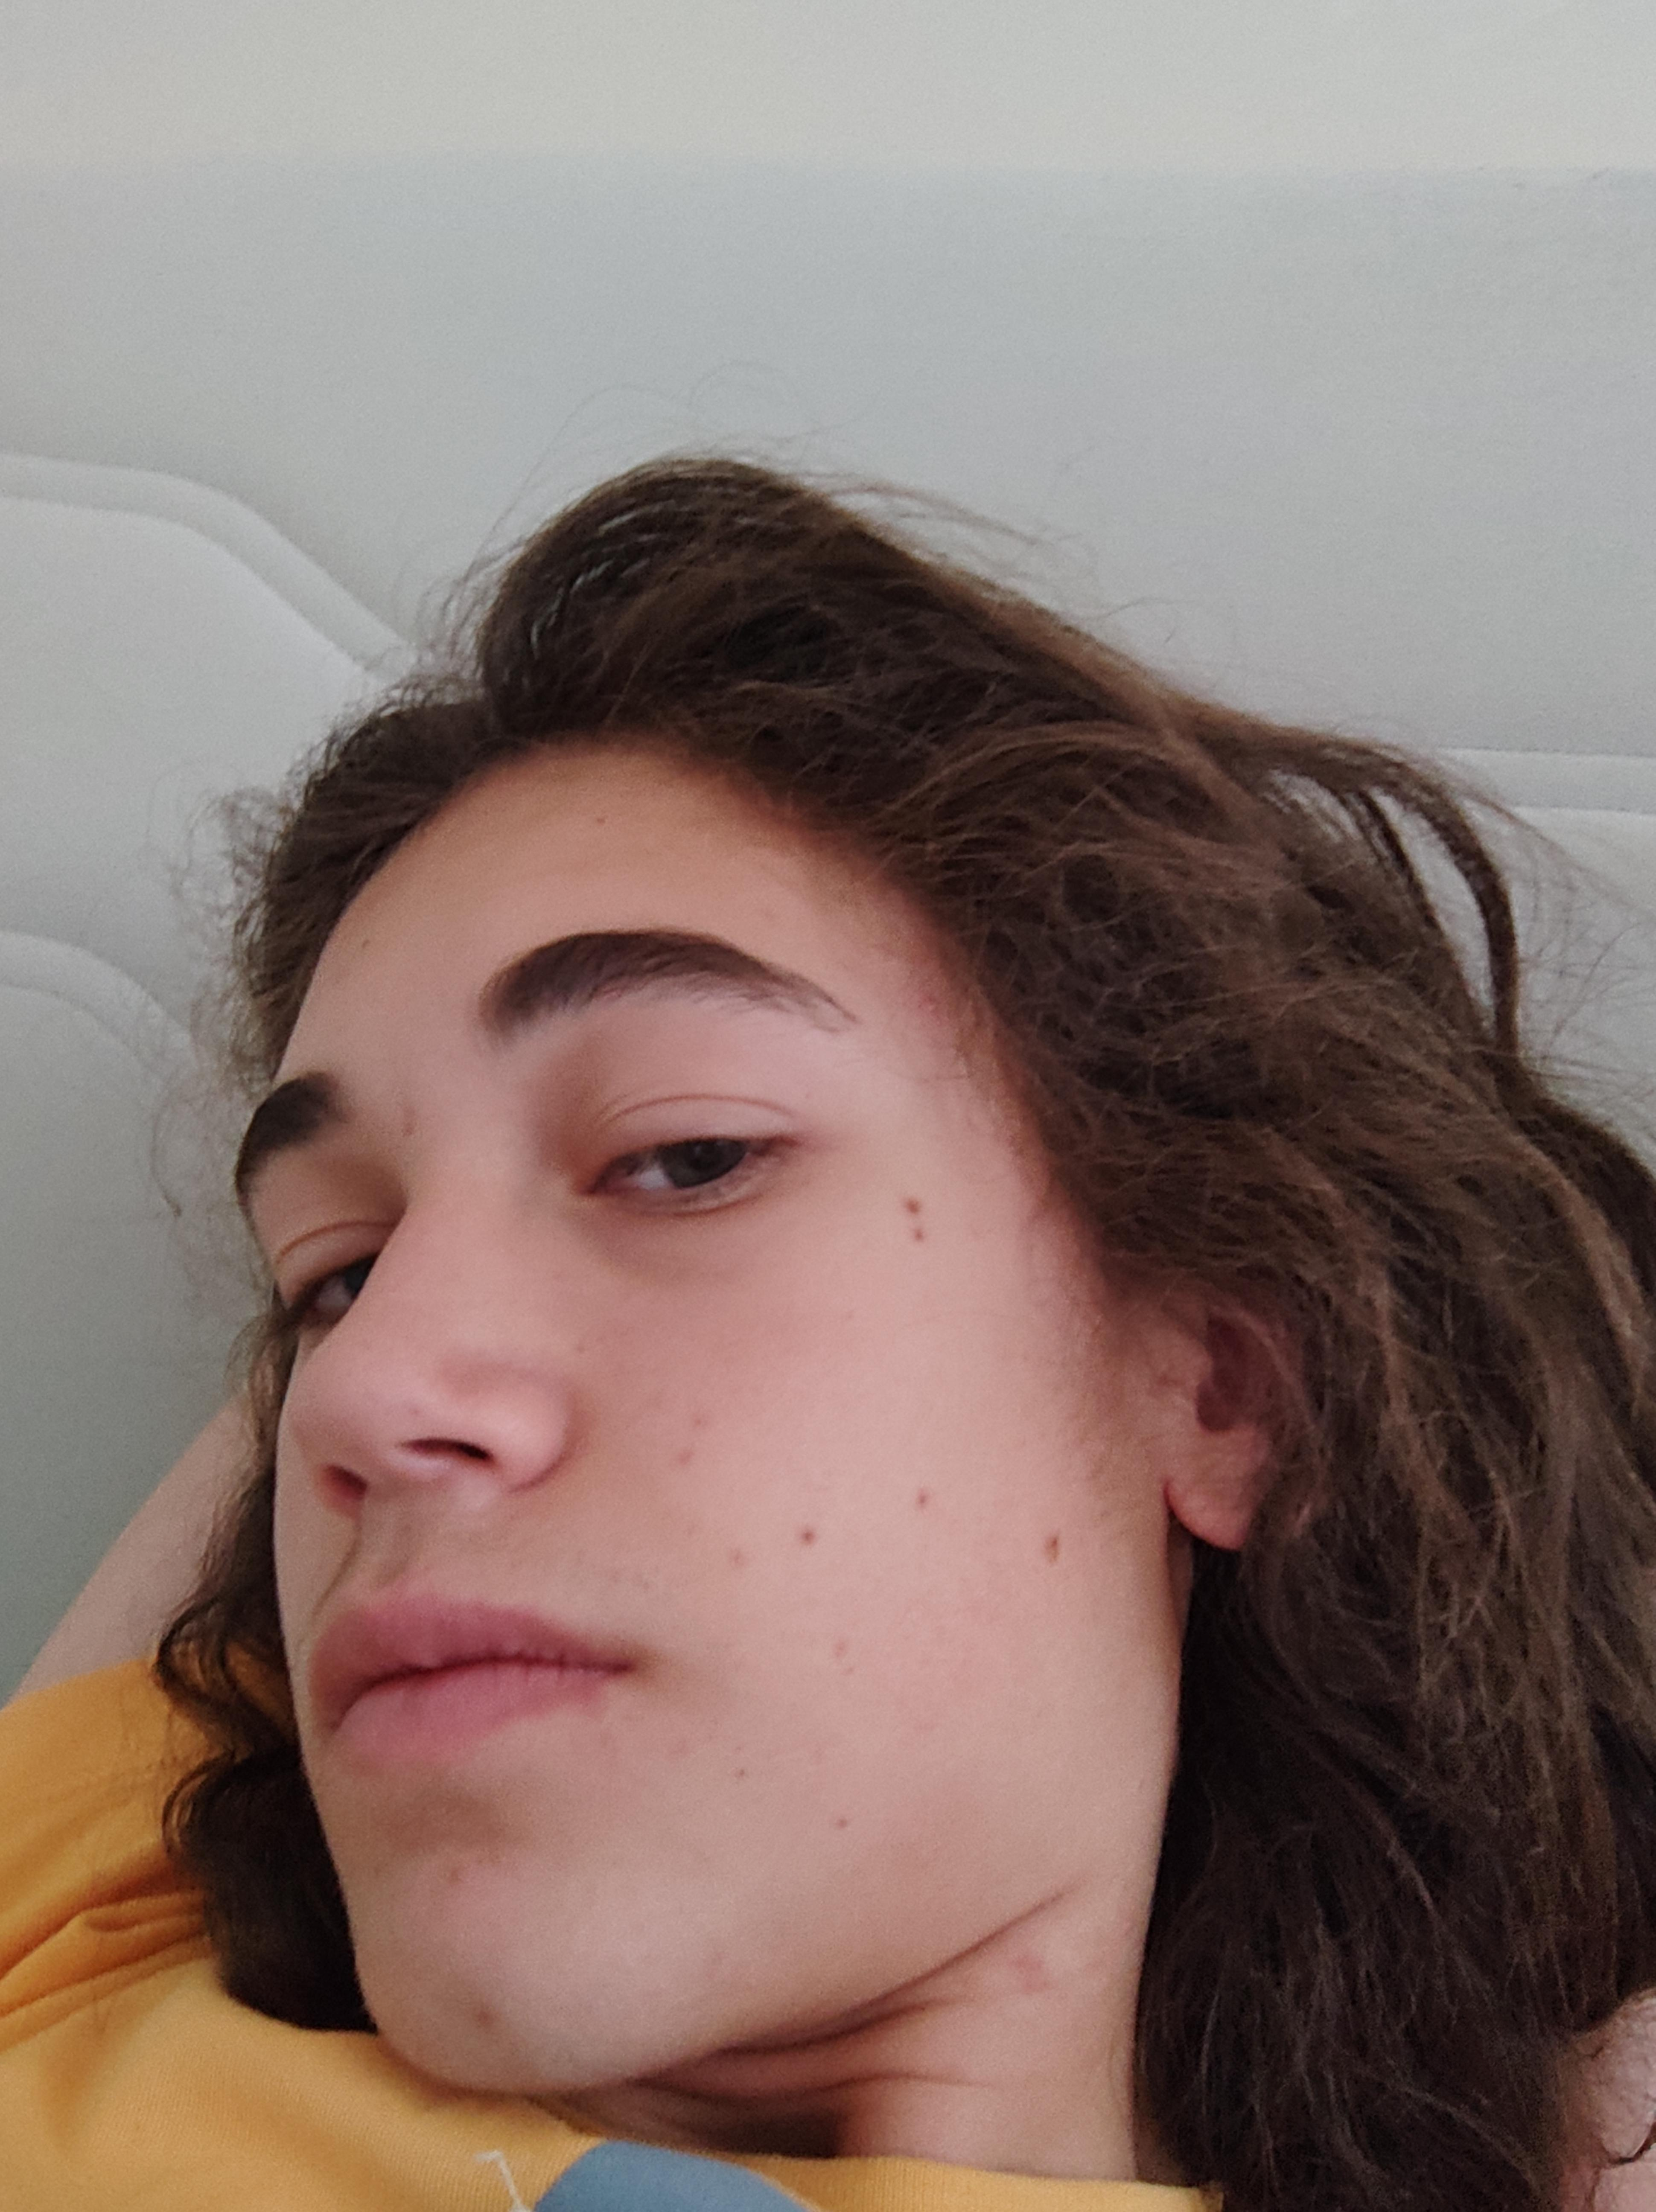Acne: (673, 1398, 715, 1475), (1000, 1941, 1058, 1984), (911, 981, 946, 1033), (461, 2000, 501, 2042), (426, 1856, 464, 1897), (395, 1089, 423, 1144), (722, 1541, 753, 1574)
